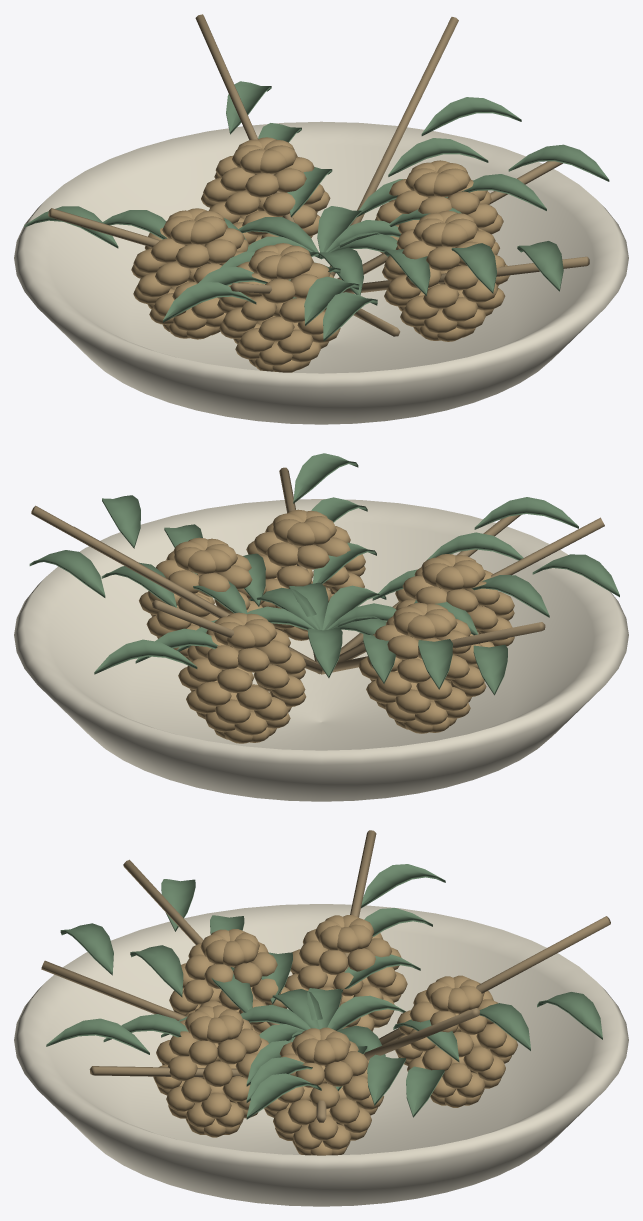
File: winter_centerpiece.glb
3 renders of one model, top to bottom at view 1: azimuth 30°, elevation 25°; view 2: azimuth 150°, elevation 25°; view 3: azimuth 270°, elevation 25°, orthographic.
Parts seen in each view (by area): view 1: winter_centerpiece__body, winter_centerpiece__cones, winter_centerpiece__foliage, winter_centerpiece__branches; view 2: winter_centerpiece__body, winter_centerpiece__cones, winter_centerpiece__foliage, winter_centerpiece__branches; view 3: winter_centerpiece__body, winter_centerpiece__cones, winter_centerpiece__foliage, winter_centerpiece__branches.
Boxes of the visible parts, x1,y1,x2,y2 form: winter_centerpiece__body: (14, 121, 628, 424); winter_centerpiece__cones: (131, 137, 509, 372); winter_centerpiece__foliage: (24, 81, 609, 341); winter_centerpiece__branches: (48, 14, 589, 336); winter_centerpiece__body: (14, 499, 628, 801); winter_centerpiece__cones: (139, 509, 514, 743); winter_centerpiece__foliage: (29, 453, 619, 695); winter_centerpiece__branches: (31, 467, 604, 674); winter_centerpiece__body: (14, 904, 628, 1206); winter_centerpiece__cones: (153, 915, 517, 1155); winter_centerpiece__foliage: (46, 864, 602, 1119); winter_centerpiece__branches: (41, 830, 610, 1122).
Size of the model in its own units: 0.32 by 0.1418 by 0.32.
